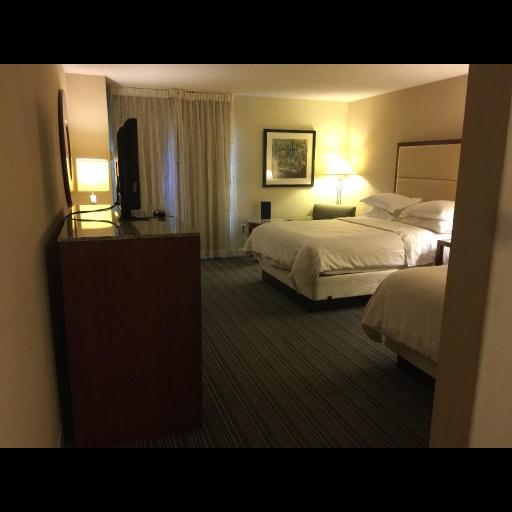clean_bed: (262, 139, 461, 304)
clean_floor: (107, 251, 430, 452)
organized table: (48, 200, 208, 451)
